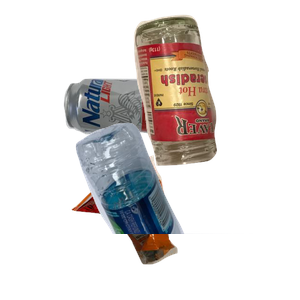glass: (131, 12, 300, 170)
metal: (61, 75, 231, 202)
plastic: (73, 120, 300, 300)
trash: (69, 153, 239, 300)
